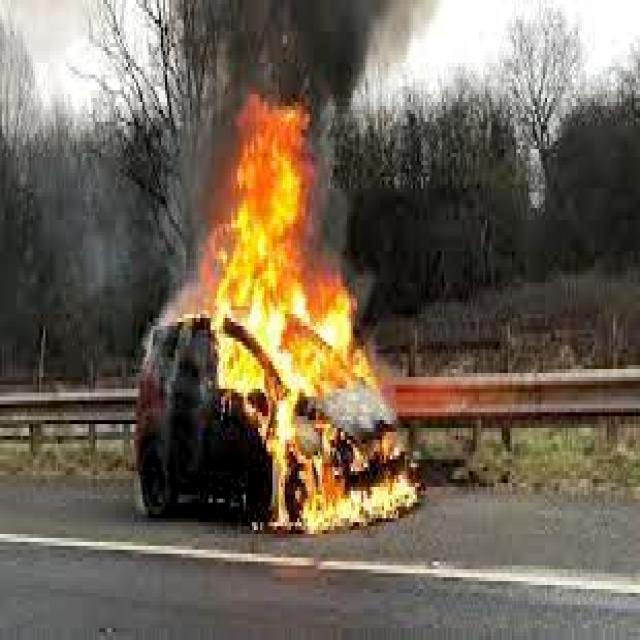fire: (205, 98, 362, 514), (368, 479, 419, 517)
